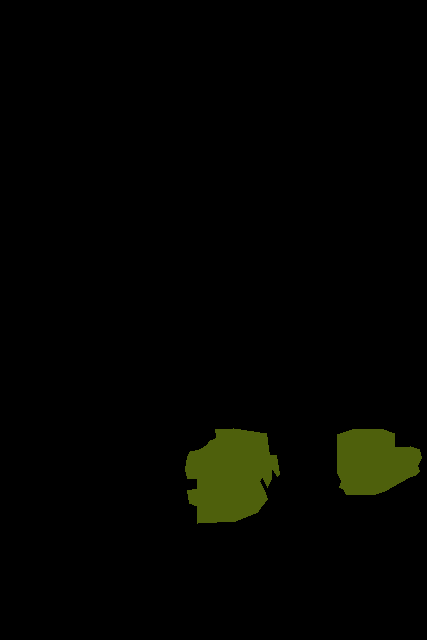Train: (185, 428, 279, 523), (337, 429, 422, 495)
